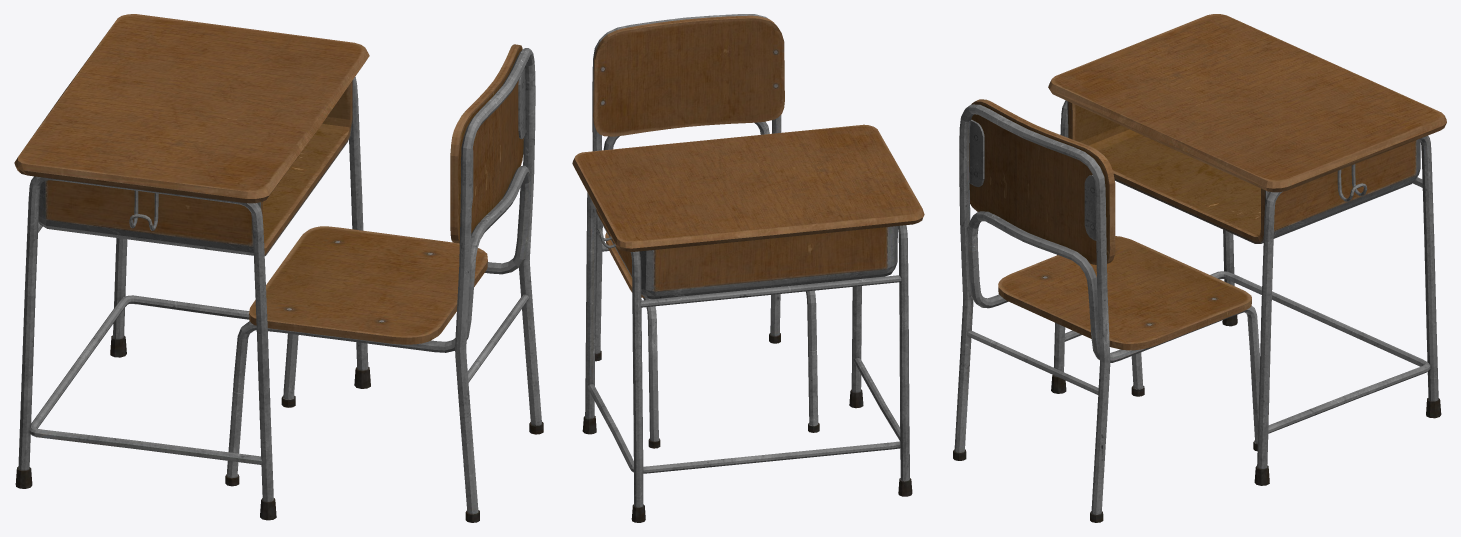
File: school_desk.glb
The picture shows the model from 3 angles, left to right: view 1: azimuth 30°, elevation 25°; view 2: azimuth 150°, elevation 25°; view 3: azimuth 270°, elevation 25°; orthographic projection. The views are drawn at different scales.
Parts seen in each view (by area): view 1: 9818bde4-7c11-4684-99c5-c3cdc52558ab; view 2: 9818bde4-7c11-4684-99c5-c3cdc52558ab; view 3: 9818bde4-7c11-4684-99c5-c3cdc52558ab.
Boxes of the visible parts, x1,y1,x2,y2 form: 9818bde4-7c11-4684-99c5-c3cdc52558ab: (14, 14, 543, 522); 9818bde4-7c11-4684-99c5-c3cdc52558ab: (572, 14, 924, 522); 9818bde4-7c11-4684-99c5-c3cdc52558ab: (953, 14, 1446, 522).
Size of the model in its own units: 0.611 by 0.5 by 0.6196.
Materials: 1 (1 with a texture image).
